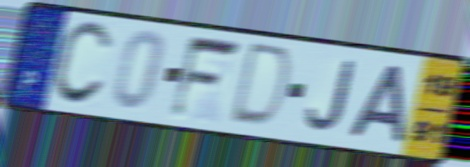0: (109, 28, 167, 114)
A: (344, 62, 408, 146)
C: (48, 19, 115, 109)
D: (225, 40, 296, 132)
F: (166, 34, 245, 123)
J: (303, 58, 358, 135)
